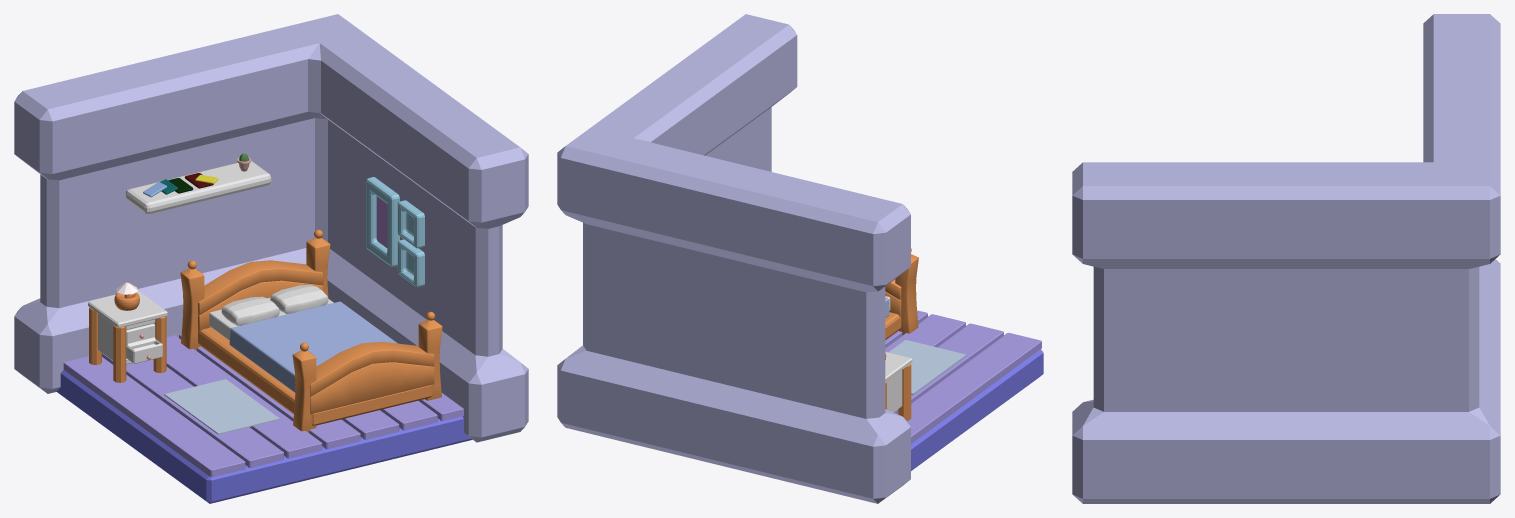
Rendered from room.glb.
3 views of the same model, side by side, from view 1: azimuth 30°, elevation 25°; view 2: azimuth 150°, elevation 25°; view 3: azimuth 270°, elevation 25° (orthographic). The views are drawn at different scales.
Visible parts, largest first — view 1: Cube, Plane.001, Plane, Plane.003, Plane.006, Plane.004, Cube.001, Plane.002, Plane.011, Plane.009, Cube.002, Plane.010 (+2 smaller); view 2: Cube, Plane.001, Plane, Plane.011, Plane.004, Plane.009, Plane.010; view 3: Cube.
Part boxes in pixels (left/top/right/bottom): Cube: left=14, top=14, right=528, bottom=442; Plane.001: left=63, top=333, right=463, bottom=477; Plane: left=56, top=369, right=472, bottom=503; Plane.003: left=198, top=260, right=434, bottom=414; Plane.006: left=229, top=301, right=397, bottom=392; Plane.004: left=180, top=229, right=442, bottom=432; Cube.001: left=366, top=177, right=424, bottom=287; Plane.002: left=198, top=327, right=432, bottom=425; Plane.011: left=164, top=379, right=279, bottom=434; Plane.009: left=88, top=290, right=167, bottom=364; Cube.002: left=125, top=160, right=271, bottom=213; Plane.010: left=89, top=307, right=166, bottom=382; Cube: left=557, top=14, right=910, bottom=503; Plane.001: left=885, top=310, right=1041, bottom=443; Plane: left=911, top=349, right=1043, bottom=470; Plane.011: left=888, top=340, right=966, bottom=394; Plane.004: left=895, top=248, right=918, bottom=335; Plane.009: left=885, top=352, right=912, bottom=412; Plane.010: left=885, top=364, right=911, bottom=420; Cube: left=1072, top=14, right=1500, bottom=503.
Size of the model in its own units: 2.44 by 2.02 by 2.44.
